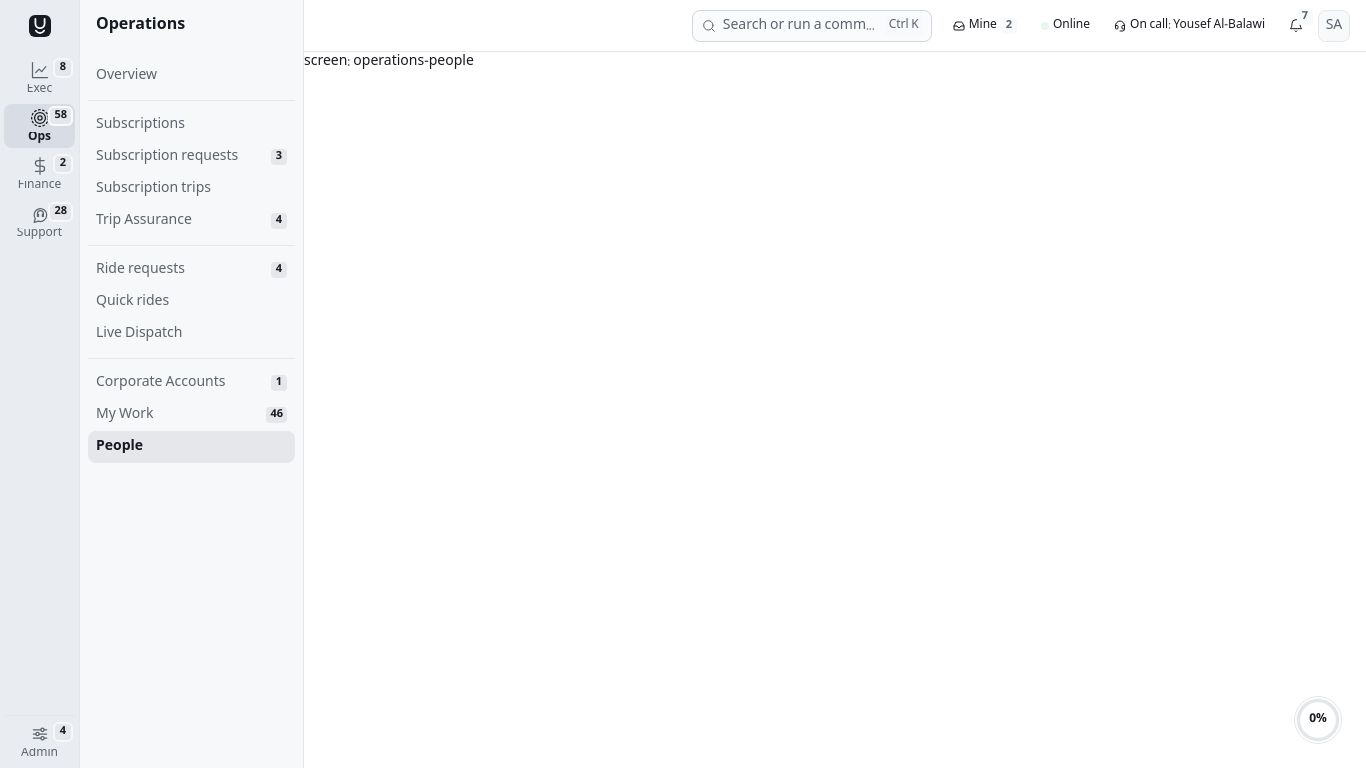
AC-74 — "Every operator-facing string in the shell resolves through a key; an empty Arabic dictionary shows the English fallback and no raw key" › renders no raw key in the global search popover, which is the half AC-74 asserts
The width and height of the screenshot is (1366, 768).
expect the element showing "screen: operations-people" is shown: met, box [304, 50, 474, 74]
Click the button "Search or run a command Ctrl K". click: point(812, 26)
box: [692, 10, 932, 42]
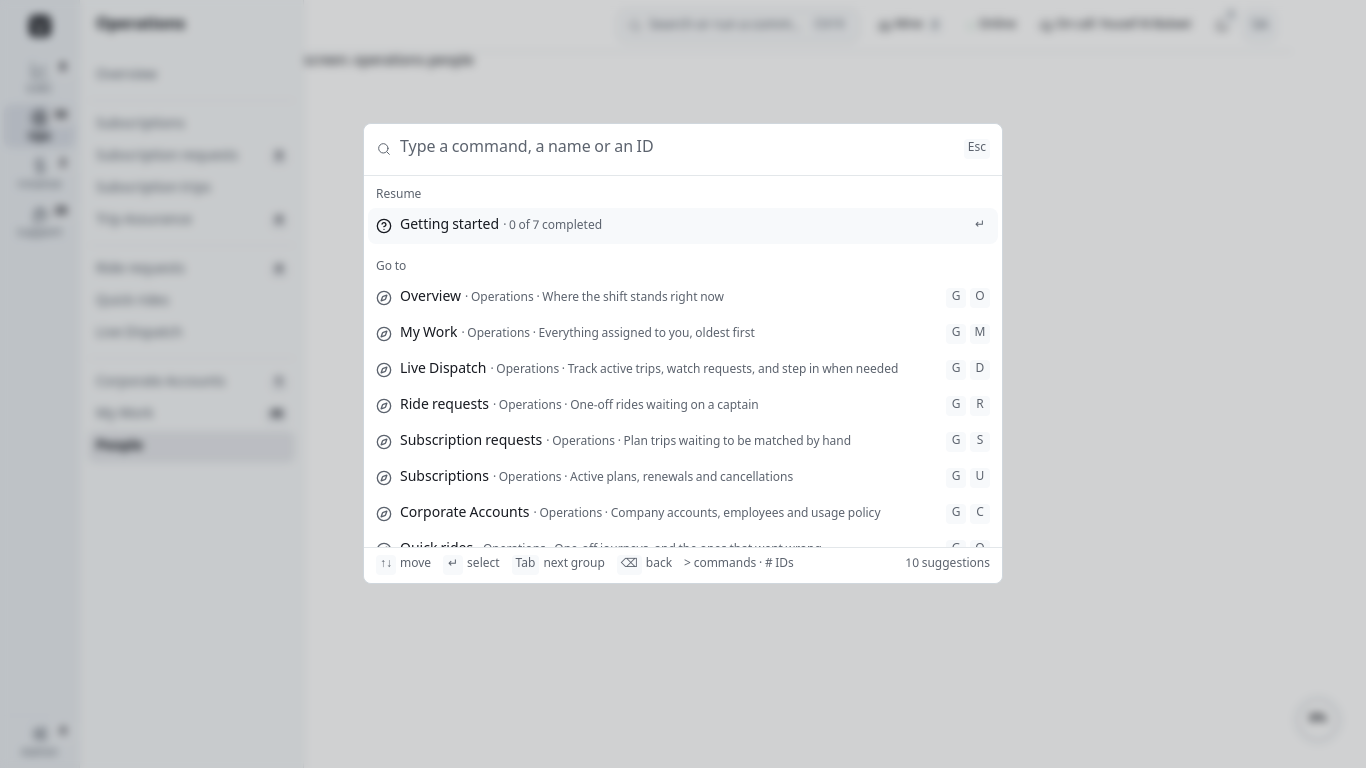
Type keys "operations"
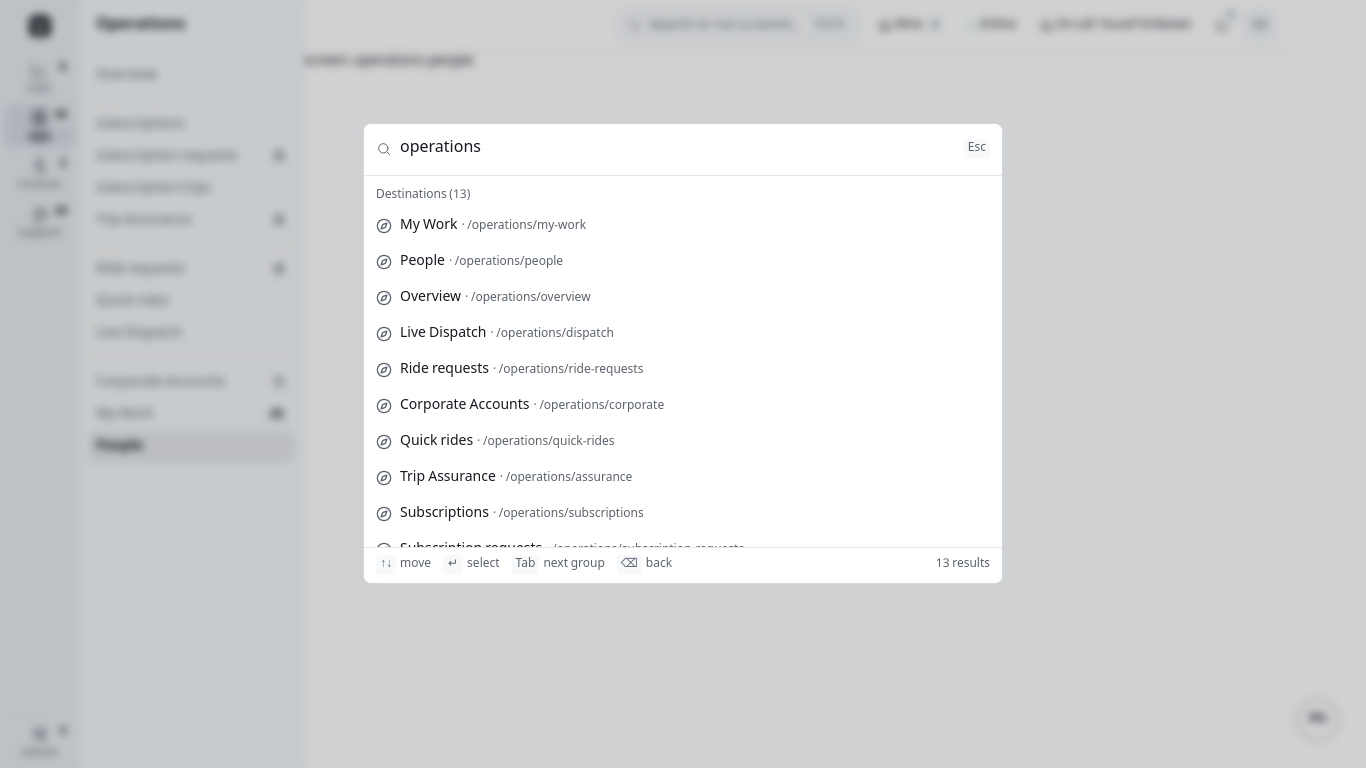
expect the text "/operations/overview" is shown: met, box [471, 288, 591, 309]
